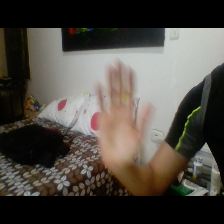left: (86, 49, 156, 171)
